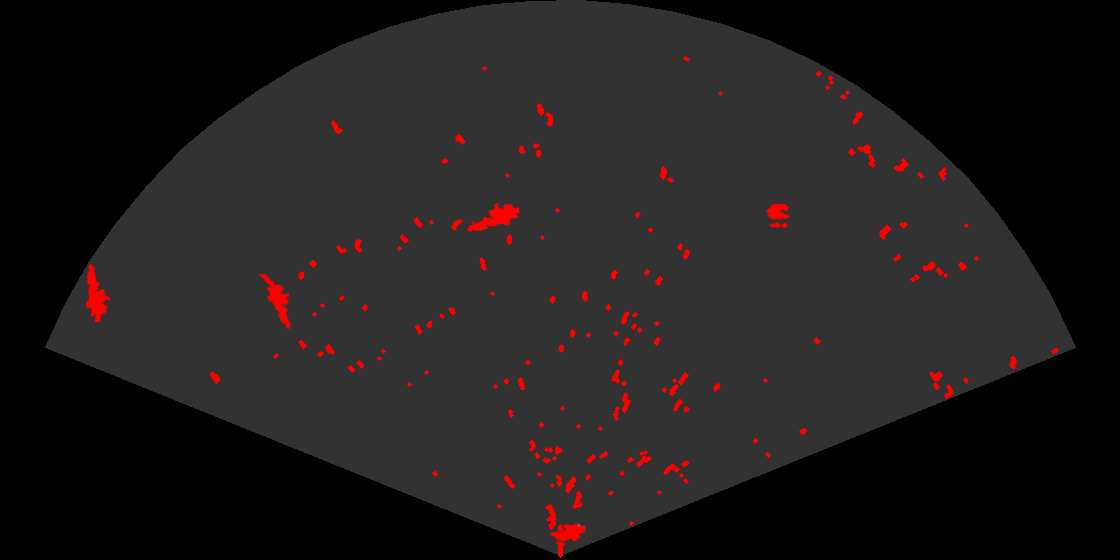AUV: (548, 521, 588, 542)
ball: (765, 202, 792, 229)
frogman: (257, 274, 293, 331), (465, 201, 519, 233), (84, 262, 112, 322)
